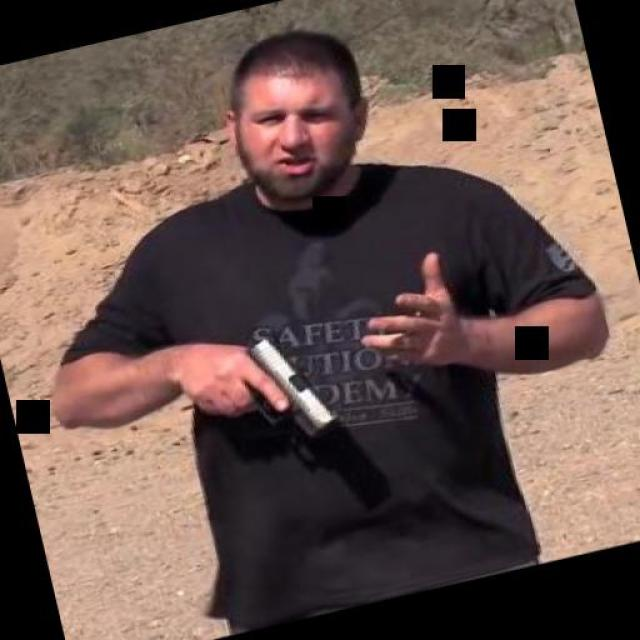gun: (174, 325, 336, 460)
